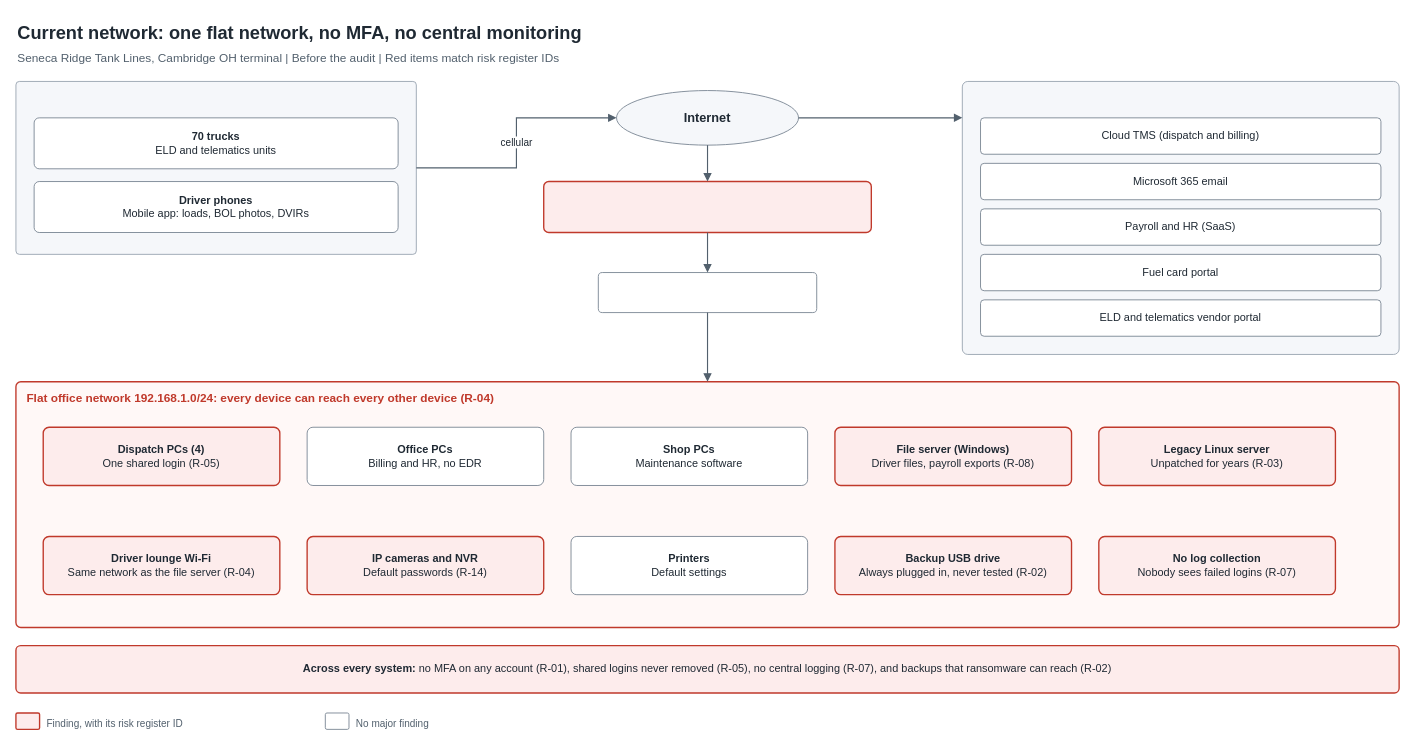
Image size: 1416x745. Some labels were removed from this diagram. The shapes that lost their labels are listed below. From the top down, each one's box as (x1, y1, x2, y2) in pixels, then its label:
(15, 81, 416, 254): On the road (cellular)
(543, 180, 872, 233): ISP modem and consumer router Default admin password, no IPS
(961, 81, 1399, 354): Cloud services, reached directly (no SSO, no MFA)
(597, 272, 817, 313): Unmanaged switch
